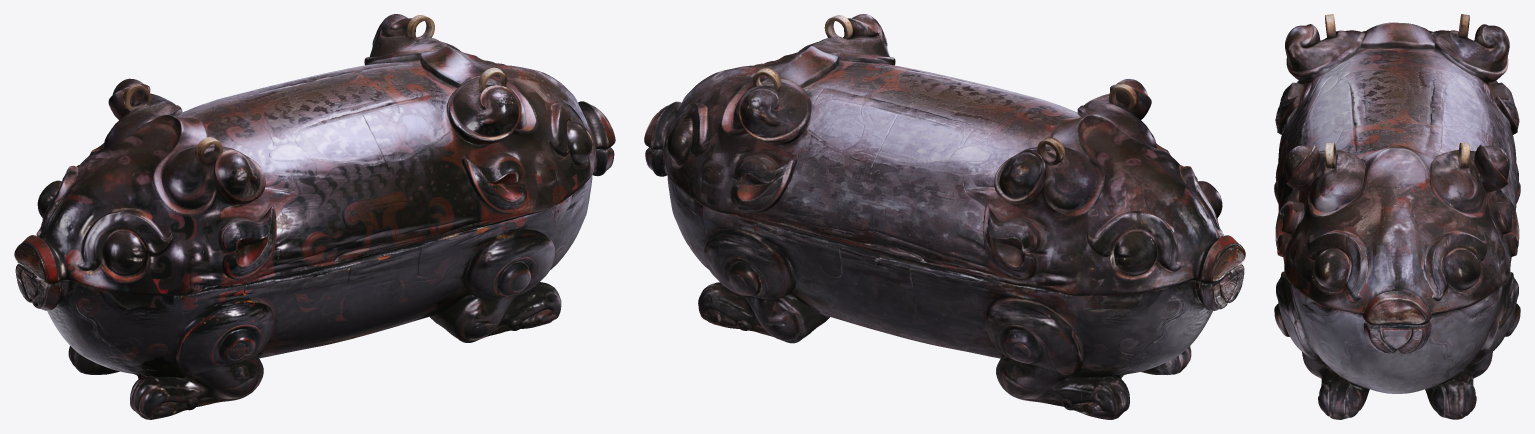
Rendered from pig-case.glb.
3 renders of one model, left to right at view 1: azimuth 30°, elevation 25°; view 2: azimuth 150°, elevation 25°; view 3: azimuth 270°, elevation 25°, orthographic. The views are drawn at different scales.
Visible parts, largest first — view 1: pig-case; view 2: pig-case; view 3: pig-case.
Part boxes in pixels (<box>): pig-case: <box>14,14,615,419</box>; pig-case: <box>644,14,1245,419</box>; pig-case: <box>1274,14,1520,419</box>.
Size of the model in its own units: 0.9796 by 0.4391 by 0.3952.
Materials: 1 (1 with a texture image).
